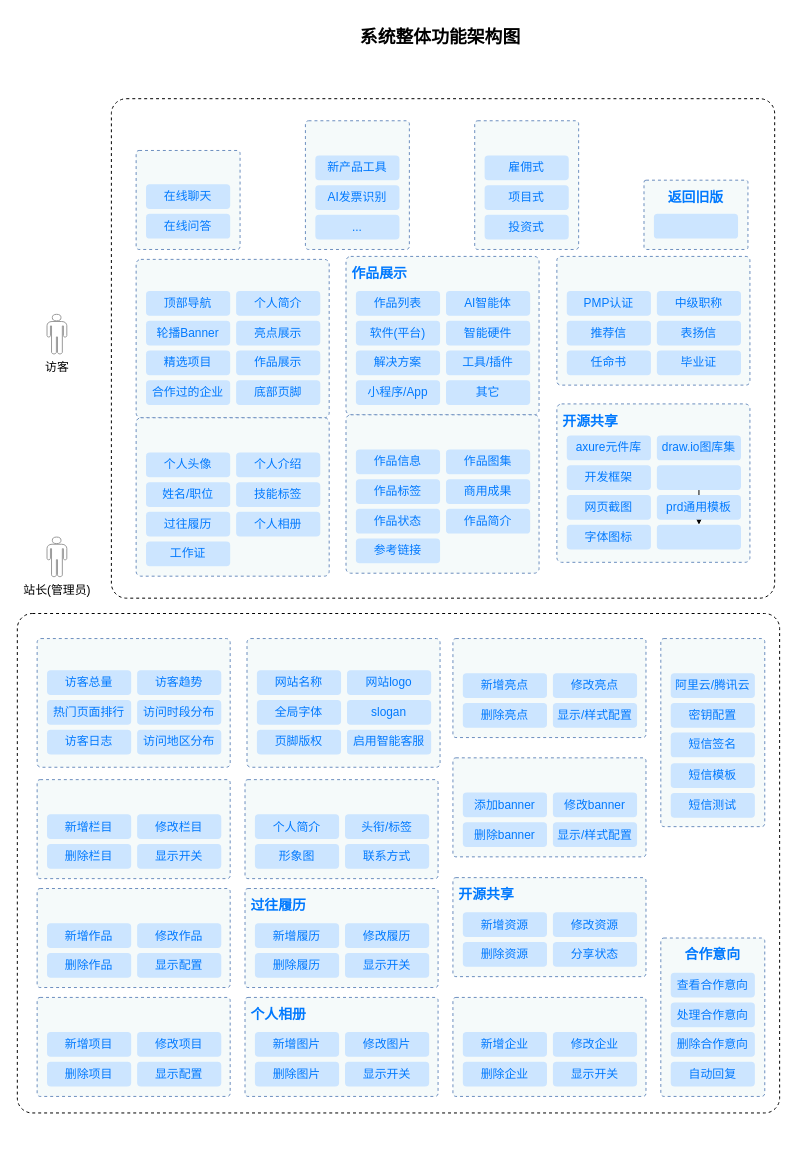
Image size: 797x1158. Some labels were removed from this diagram. Here are the shapes that lost their labels. From the top down, the box of each, then its label:
(135, 149, 240, 249): AI智能助手
(304, 120, 409, 249): Demo演示
(474, 120, 579, 249): 我想用你
(653, 213, 738, 238): yy1990.com
(135, 258, 329, 418): 首页
(556, 255, 750, 385): 荣誉证书
(110, 98, 775, 598): 前端功能结构
(135, 417, 329, 576): 关于叶云
(345, 414, 539, 573): 作品详情
(656, 465, 741, 490): 备份还原工具
(656, 524, 741, 549): ppt排版库
(36, 638, 230, 767): 访客统计
(246, 638, 440, 767): 网站设置
(452, 638, 646, 738): 亮点管理
(660, 638, 765, 827): 短信服务
(452, 757, 646, 857): banner管理
(36, 779, 230, 879): 栏目管理
(244, 779, 438, 879): 个人资料
(16, 613, 780, 1113): 后台功能结构
(36, 888, 230, 988): 作品管理
(36, 996, 230, 1096): 项目管理
(452, 996, 646, 1096): 服务过的企业
